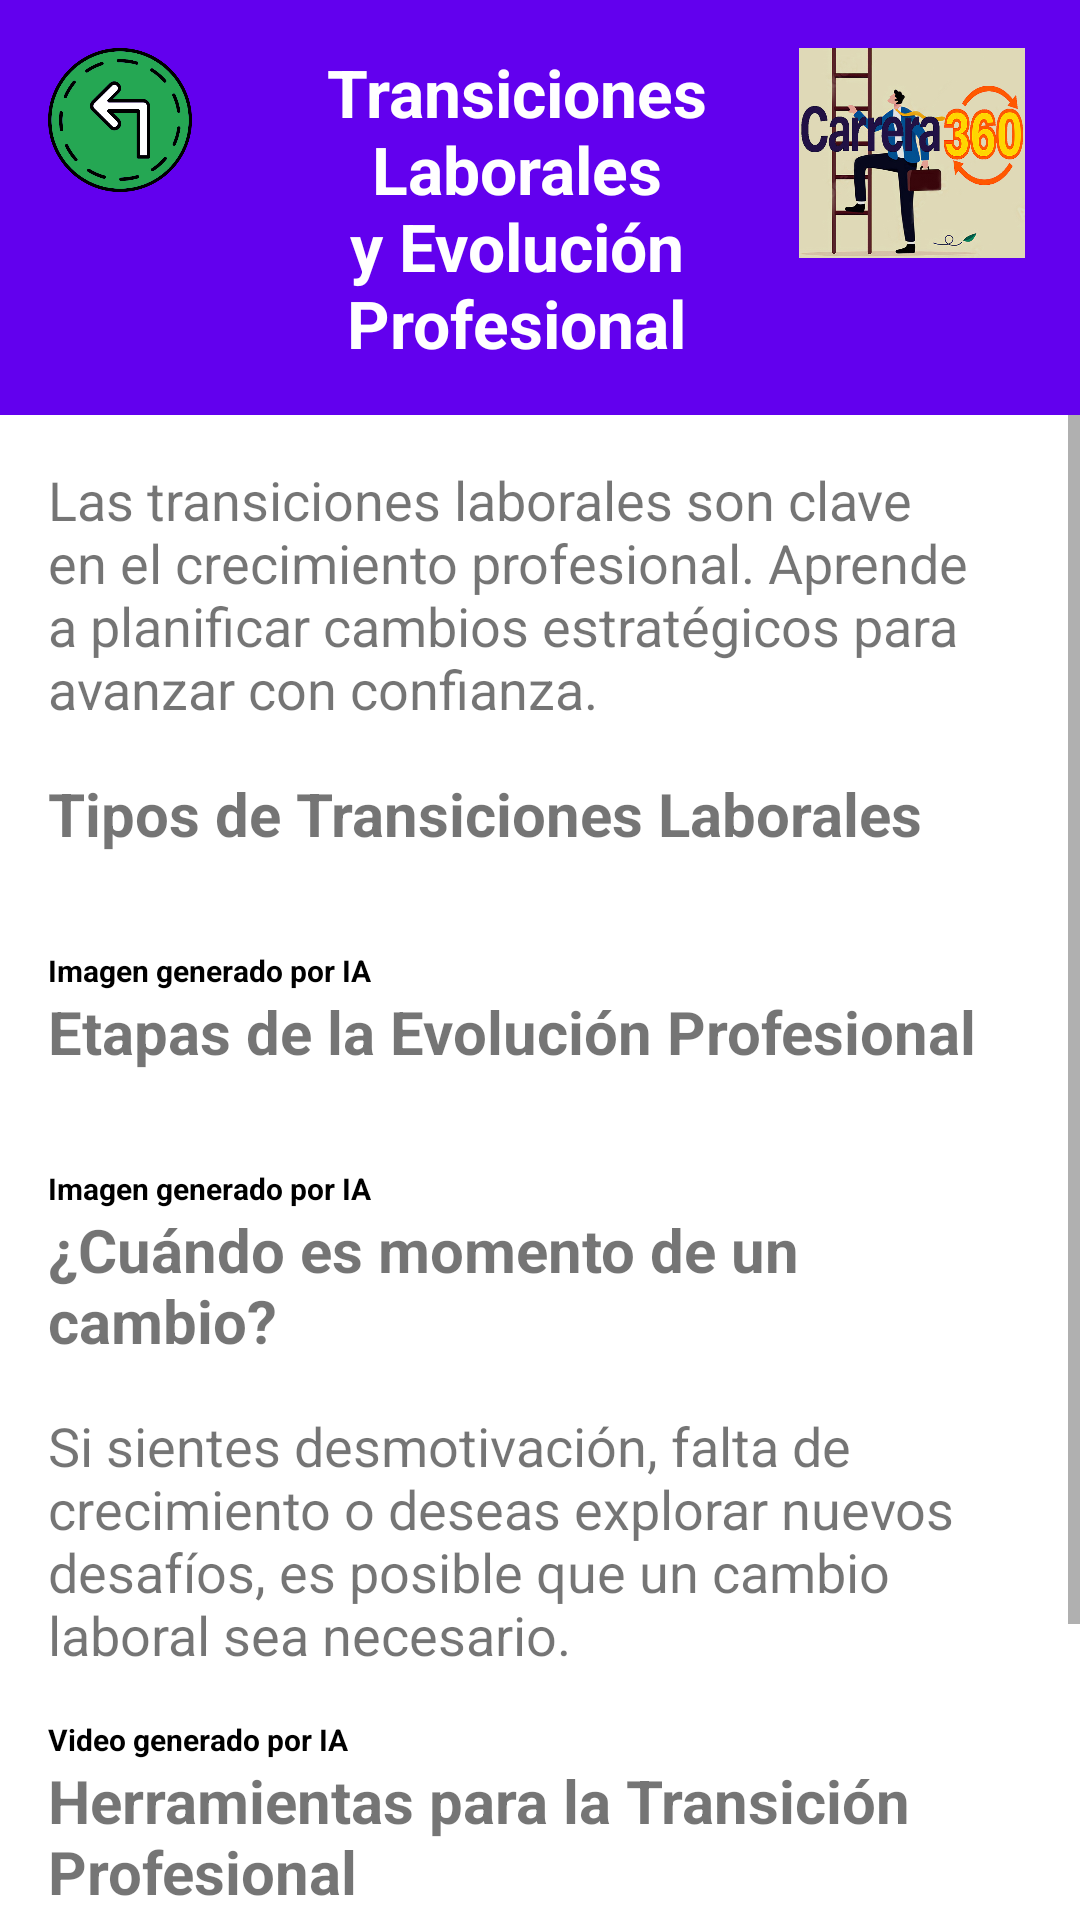

Where to tap for icons on this 1080px×1920px app screen, as (x=x, y=y):
Regresar a Inicio: (x=120, y=120)
